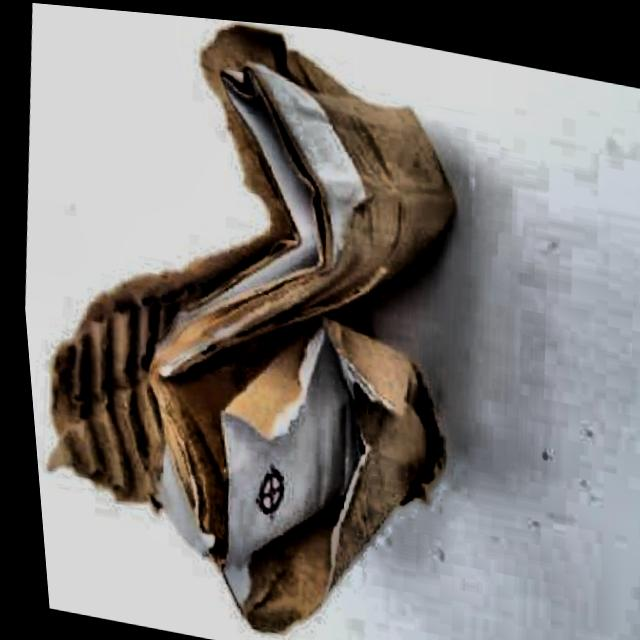Cardbox: (0, 0, 544, 640)
